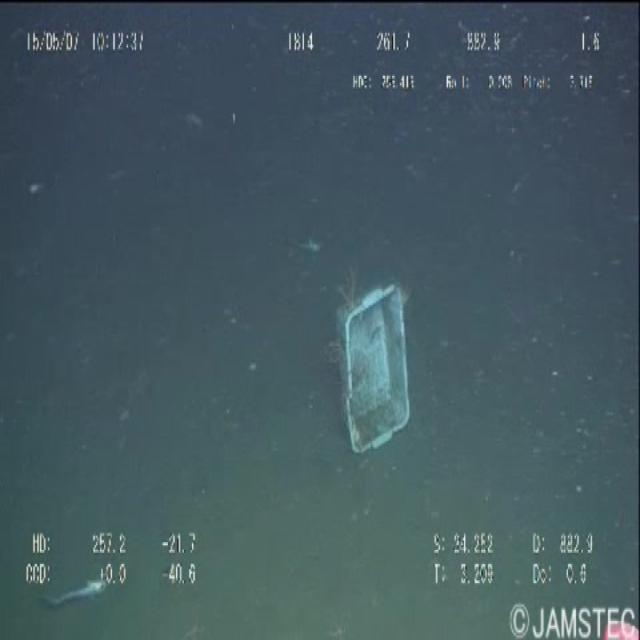Cutlery: (315, 263, 432, 469)
